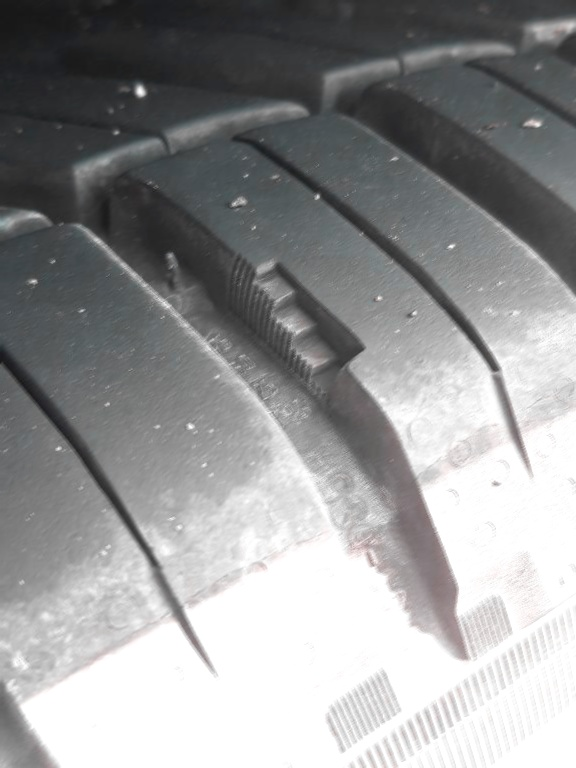temoin:90: (220, 247, 370, 420)
